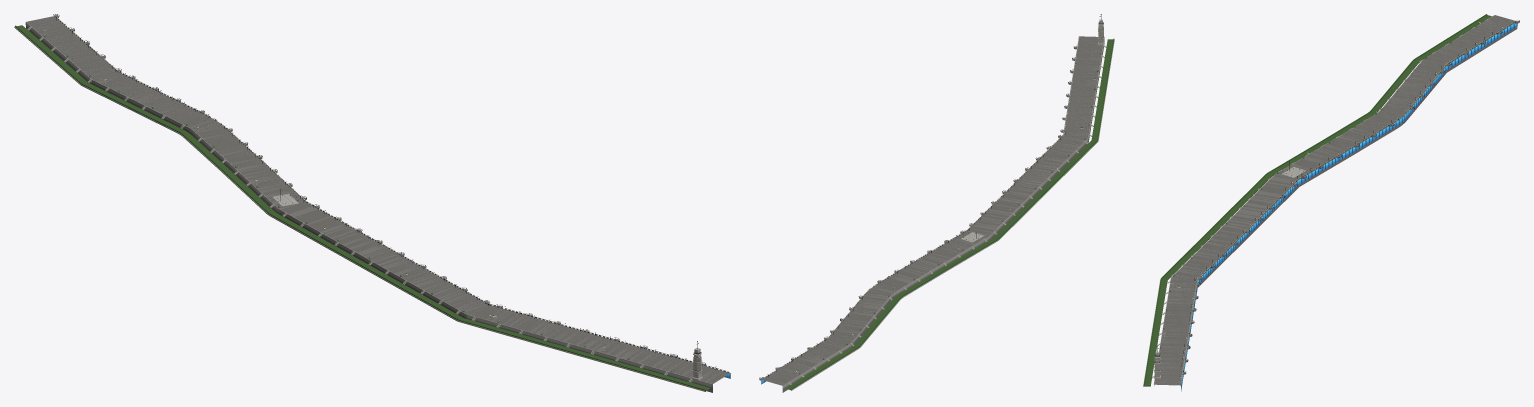
The model's file is bund_promenade.glb.
The picture shows the model from 3 angles, left to right: view 1: azimuth 30°, elevation 25°; view 2: azimuth 150°, elevation 25°; view 3: azimuth 330°, elevation 25°; orthographic projection. The views are drawn at different scales.
Visible parts, largest first — view 1: Bund_Promenade_paving, Bund_Promenade_wall, Bund_Promenade_granite, Bund_Promenade_grass, Bund_Promenade_hedge, Bund_Promenade_iron; view 2: Bund_Promenade_paving, Bund_Promenade_wall, Bund_Promenade_granite, Bund_Promenade_grass, Bund_Promenade_hedge, Bund_Promenade_iron; view 3: Bund_Promenade_paving, Bund_Promenade_wall, Bund_Promenade_grass, Bund_Promenade_granite, Bund_Promenade_flood, Bund_Promenade_hedge, Bund_Promenade_iron.
Part boxes in pixels (x1,y1,x2,y2): Bund_Promenade_paving: [26, 15, 729, 383]; Bund_Promenade_wall: [26, 16, 728, 392]; Bund_Promenade_granite: [14, 14, 728, 391]; Bund_Promenade_grass: [15, 25, 710, 391]; Bund_Promenade_hedge: [15, 25, 706, 390]; Bund_Promenade_iron: [44, 14, 729, 372]; Bund_Promenade_paving: [759, 36, 1102, 385]; Bund_Promenade_wall: [762, 36, 1104, 392]; Bund_Promenade_granite: [761, 19, 1114, 390]; Bund_Promenade_grass: [785, 39, 1114, 390]; Bund_Promenade_hedge: [790, 38, 1114, 389]; Bund_Promenade_iron: [759, 14, 1103, 379]; Bund_Promenade_paving: [1154, 15, 1518, 385]; Bund_Promenade_wall: [1154, 15, 1517, 391]; Bund_Promenade_grass: [1143, 15, 1491, 386]; Bund_Promenade_granite: [1143, 15, 1517, 386]; Bund_Promenade_flood: [1181, 23, 1517, 389]; Bund_Promenade_hedge: [1143, 14, 1487, 385]; Bund_Promenade_iron: [1154, 20, 1519, 376].
Size of what is drawn, in the model's own units: 192 by 44.5 by 962.
11 materials, 9 textured.
